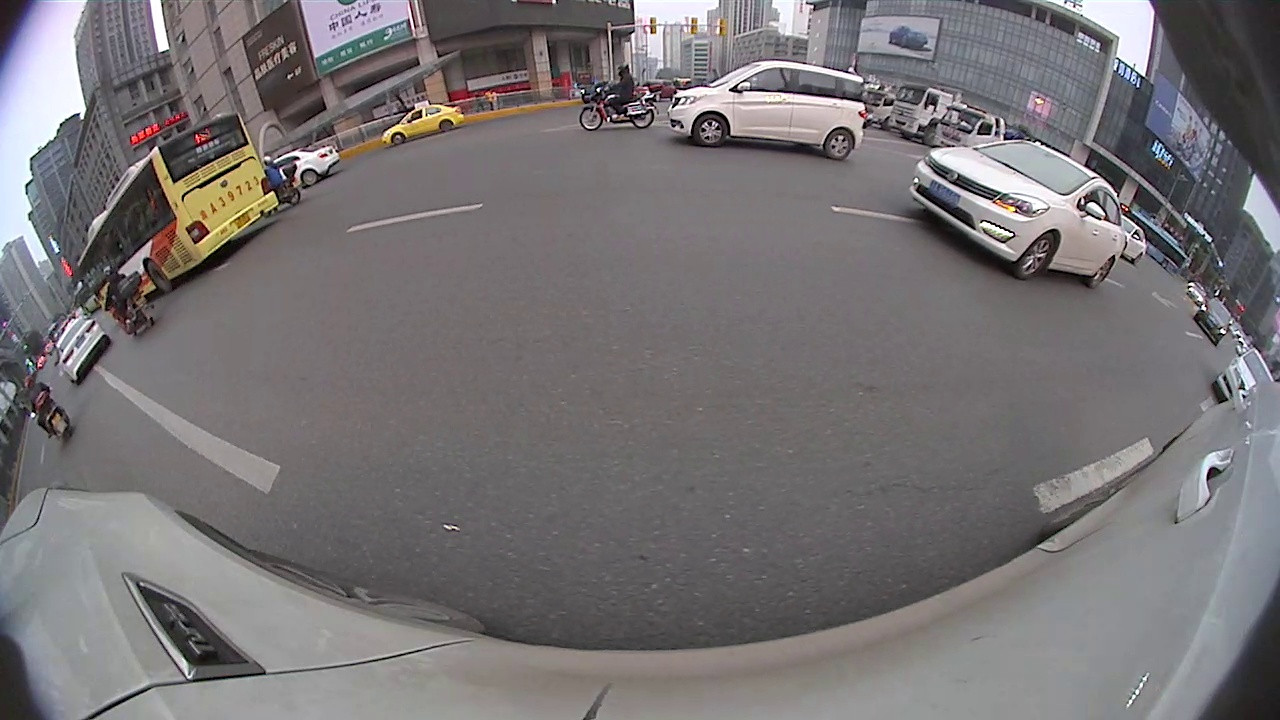bus: (78, 110, 280, 304)
car: (906, 136, 1128, 288), (670, 62, 870, 159), (383, 99, 468, 152), (53, 313, 106, 387), (1217, 350, 1279, 410), (1192, 298, 1236, 347)
front: (1015, 231, 1055, 281), (694, 112, 730, 151), (577, 103, 607, 133), (390, 132, 406, 147)
rear: (823, 127, 855, 161), (146, 260, 177, 295), (1086, 255, 1115, 290), (631, 107, 655, 132), (300, 168, 320, 188), (438, 119, 452, 135)
rider: (577, 62, 658, 136), (98, 262, 150, 341), (19, 381, 80, 447)
